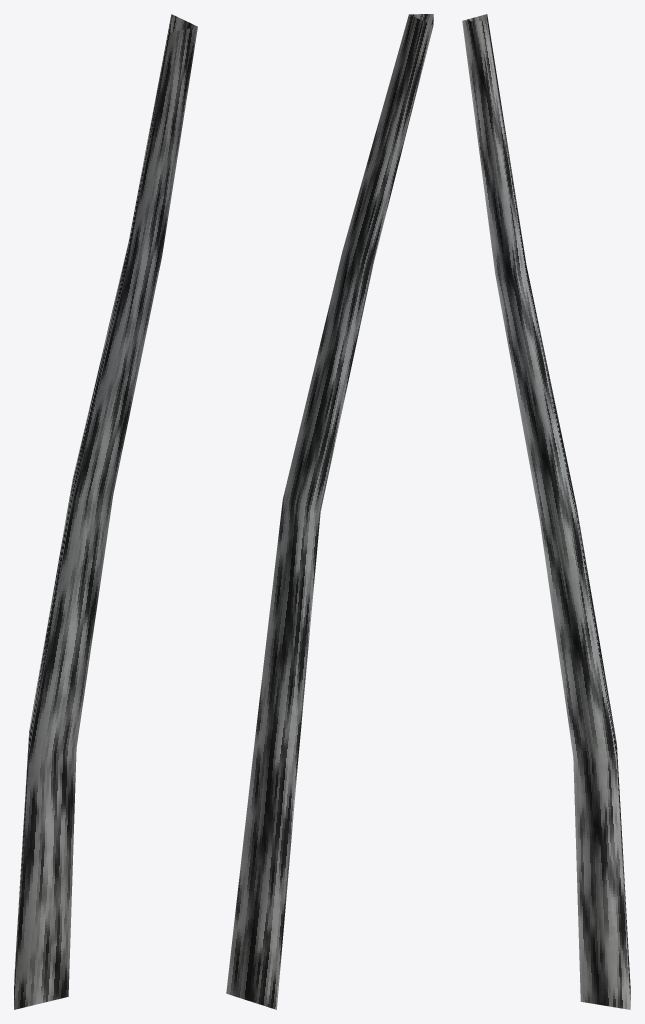
File: oak_wide_bark_l2.gltf
3 renders of one model, left to right at view 1: azimuth 90°, elevation 25°; view 2: azimuth 150°, elevation 25°; view 3: azimuth 270°, elevation 25°, orthographic. The views are drawn at different scales.
Parts seen in each view (by area): view 1: oak_wide_bark_l2; view 2: oak_wide_bark_l2; view 3: oak_wide_bark_l2.
Boxes of the visible parts, x1,y1,x2,y2 form: oak_wide_bark_l2: (14, 14, 197, 1009); oak_wide_bark_l2: (226, 14, 433, 1009); oak_wide_bark_l2: (462, 14, 630, 1009).
Bounding box in the file's own units: 0.9533 × 6.48 × 1.05.
Materials: 1 (1 with a texture image).
